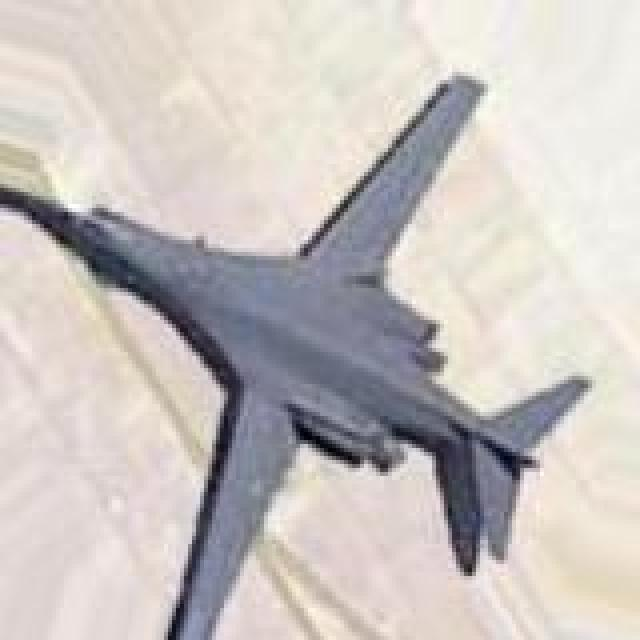B-1_TopDown: (0, 68, 592, 636)
